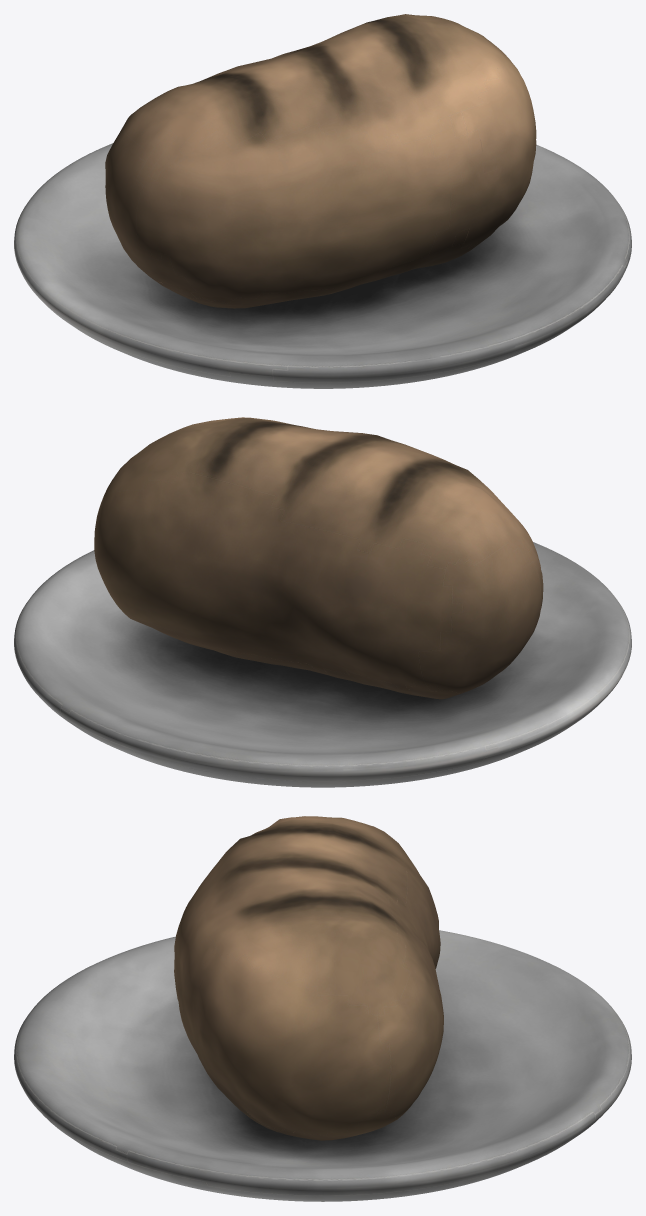
The model's file is baked_potato.glb.
The picture shows the model from 3 angles, top to bottom: view 1: azimuth 30°, elevation 25°; view 2: azimuth 150°, elevation 25°; view 3: azimuth 270°, elevation 25°; orthographic projection.
Parts seen in each view (by area): view 1: Object_2, Object_3; view 2: Object_2, Object_3; view 3: Object_3, Object_2.
Boxes of the visible parts, <box> form: Object_2: <box>105,14,536,308</box>; Object_3: <box>14,143,631,388</box>; Object_2: <box>94,417,543,699</box>; Object_3: <box>14,542,631,787</box>; Object_3: <box>14,930,631,1201</box>; Object_2: <box>174,816,443,1140</box>.
Bounding box in the file's own units: 2.45 × 1.16 × 2.45.
2 materials, 2 textured.
